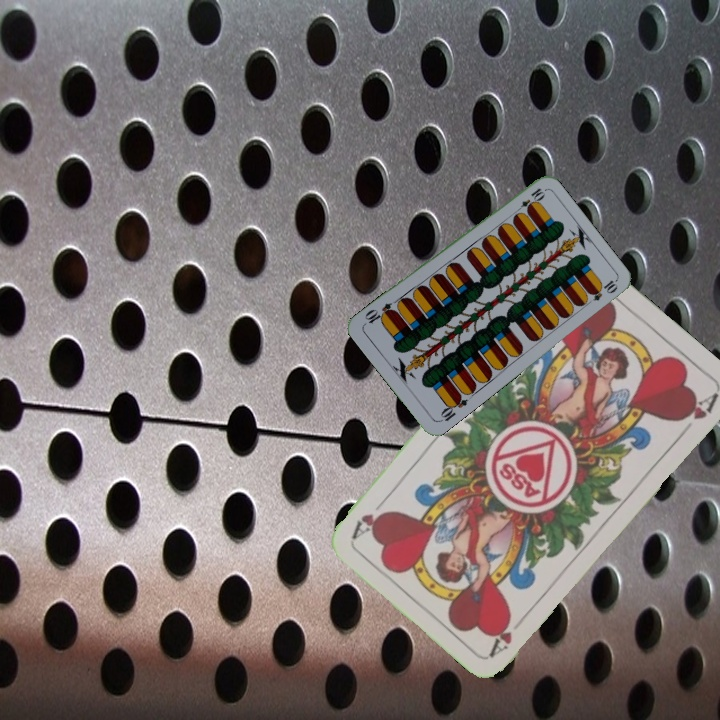E10: (435, 390, 470, 425), (511, 184, 547, 216)
HA: (486, 609, 531, 659)
